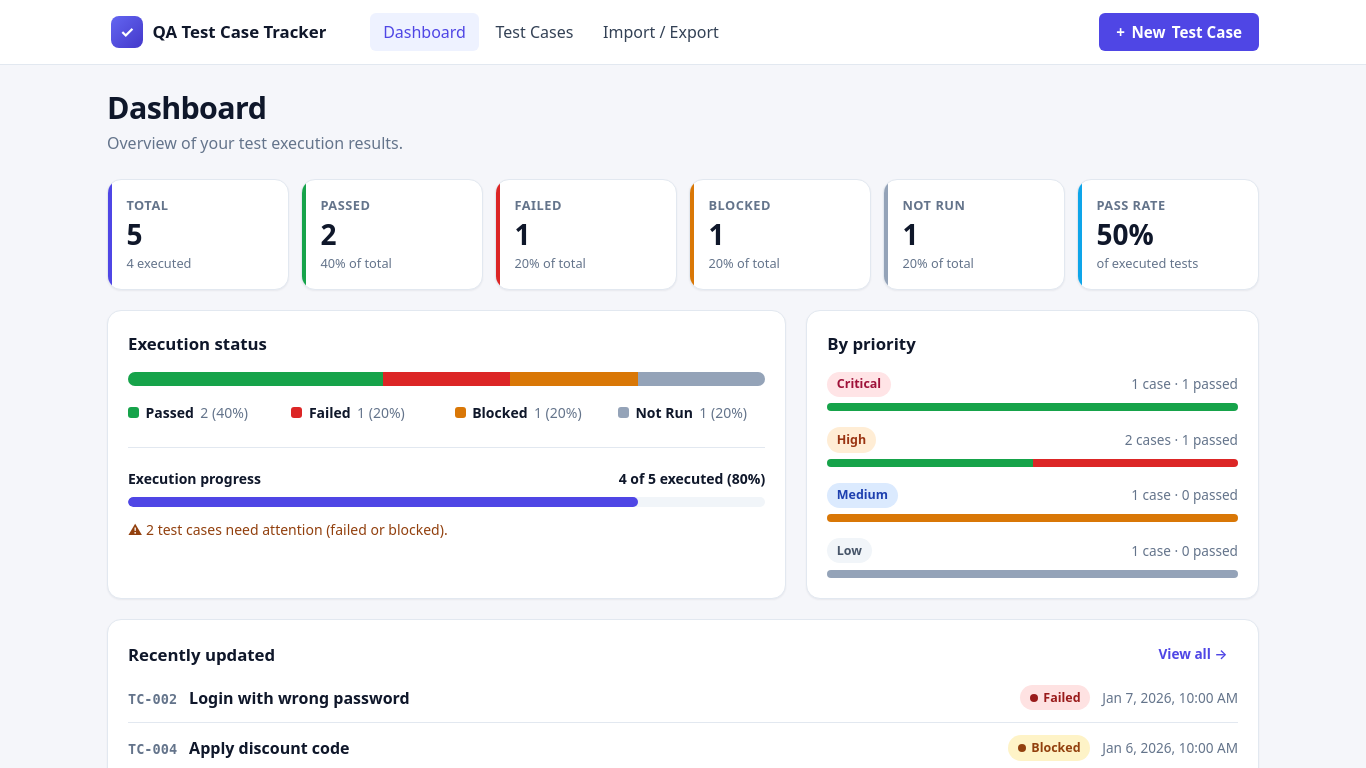
Test: App › multiple tabs › shows changes saved by another tab without writing them back
Click the button "Test Cases" at [534, 32], box [483,13,586,51]
(page scrolled)
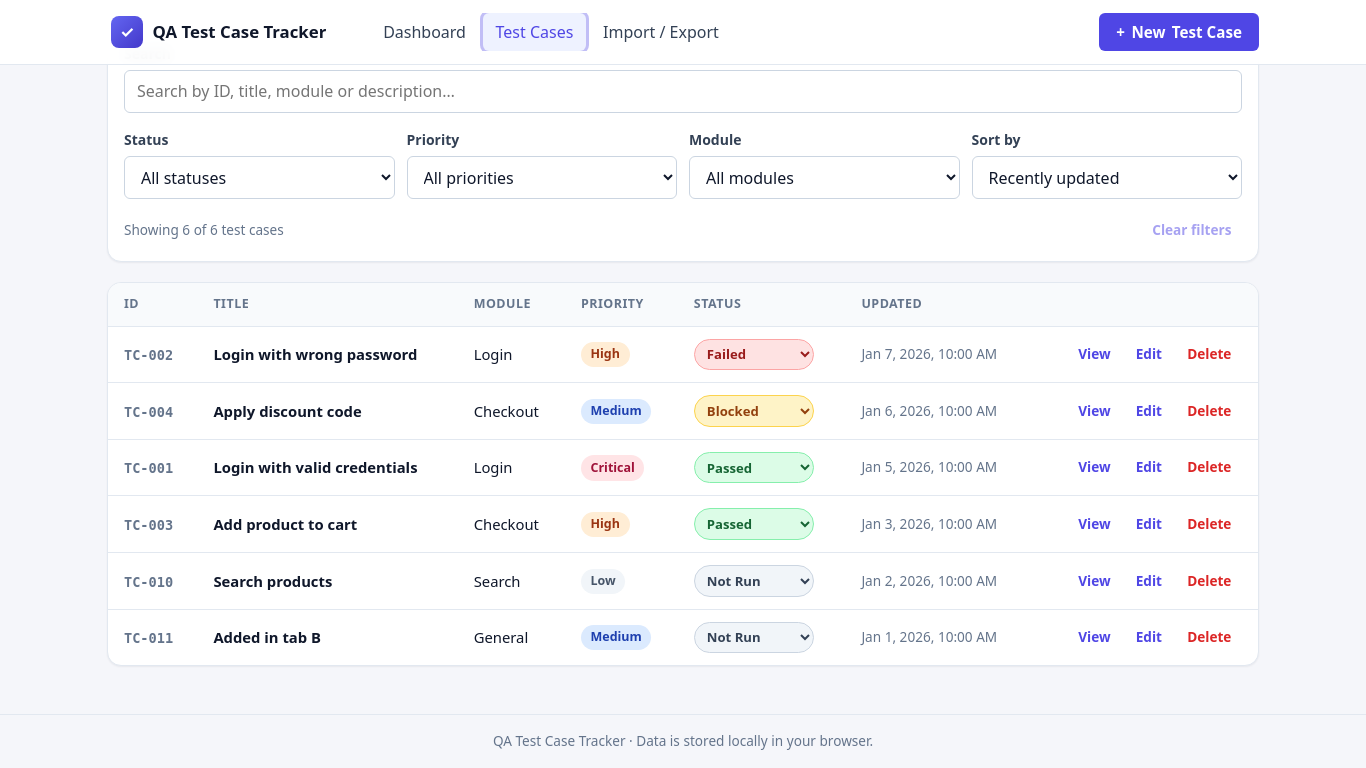
Now the button "Added in tab B" is shown, box [213,626,321,648]
